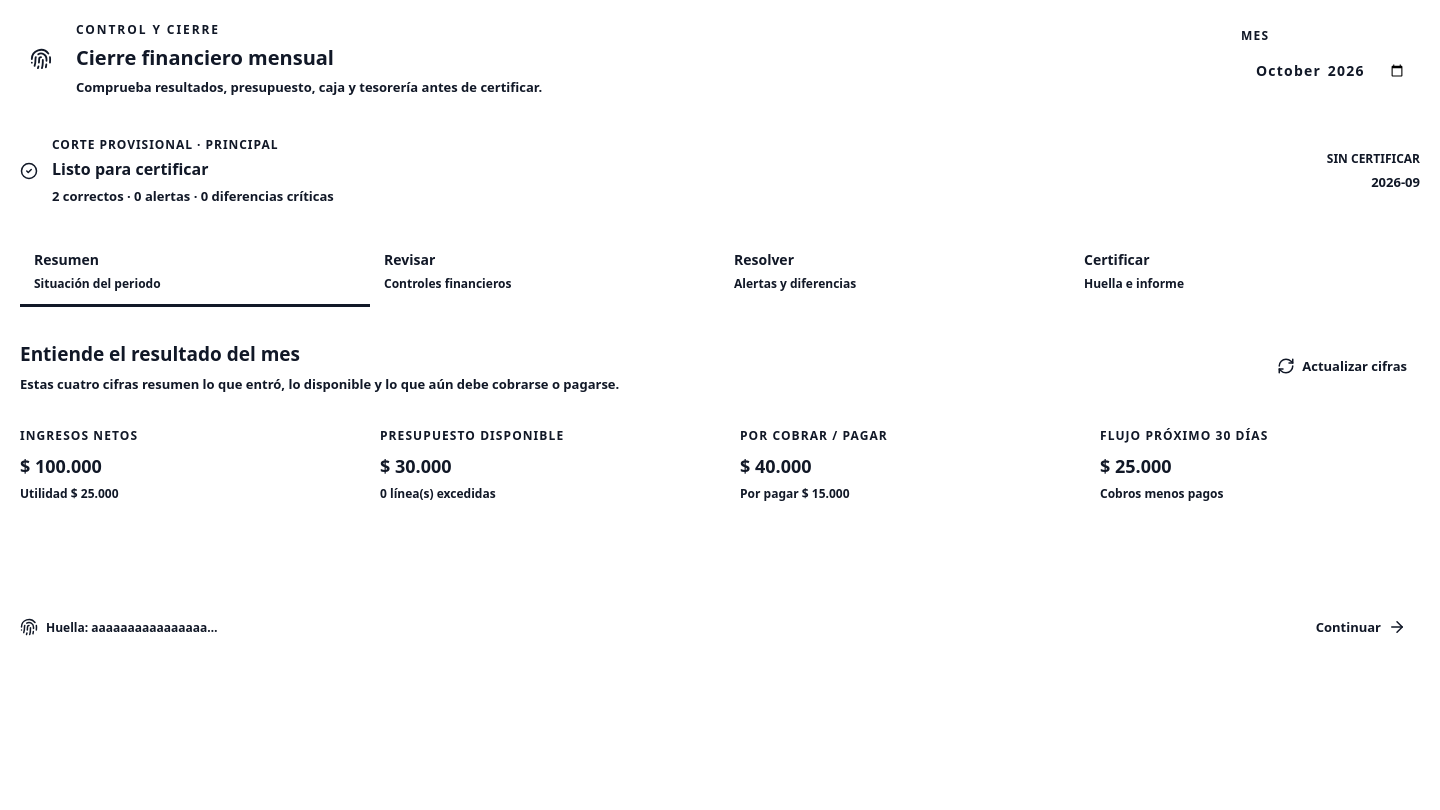
Cierre financiero mensual › cierra la certificación con Escape y devuelve el foco al botón de origen
This screenshot has width=1440, height=810.
Expected: the text "Listo para certificar" is shown, [52,158,208,180]
Click the button with aria-label "Certificar: Huella e informe": [1117, 259] box [1070,238,1420,307]
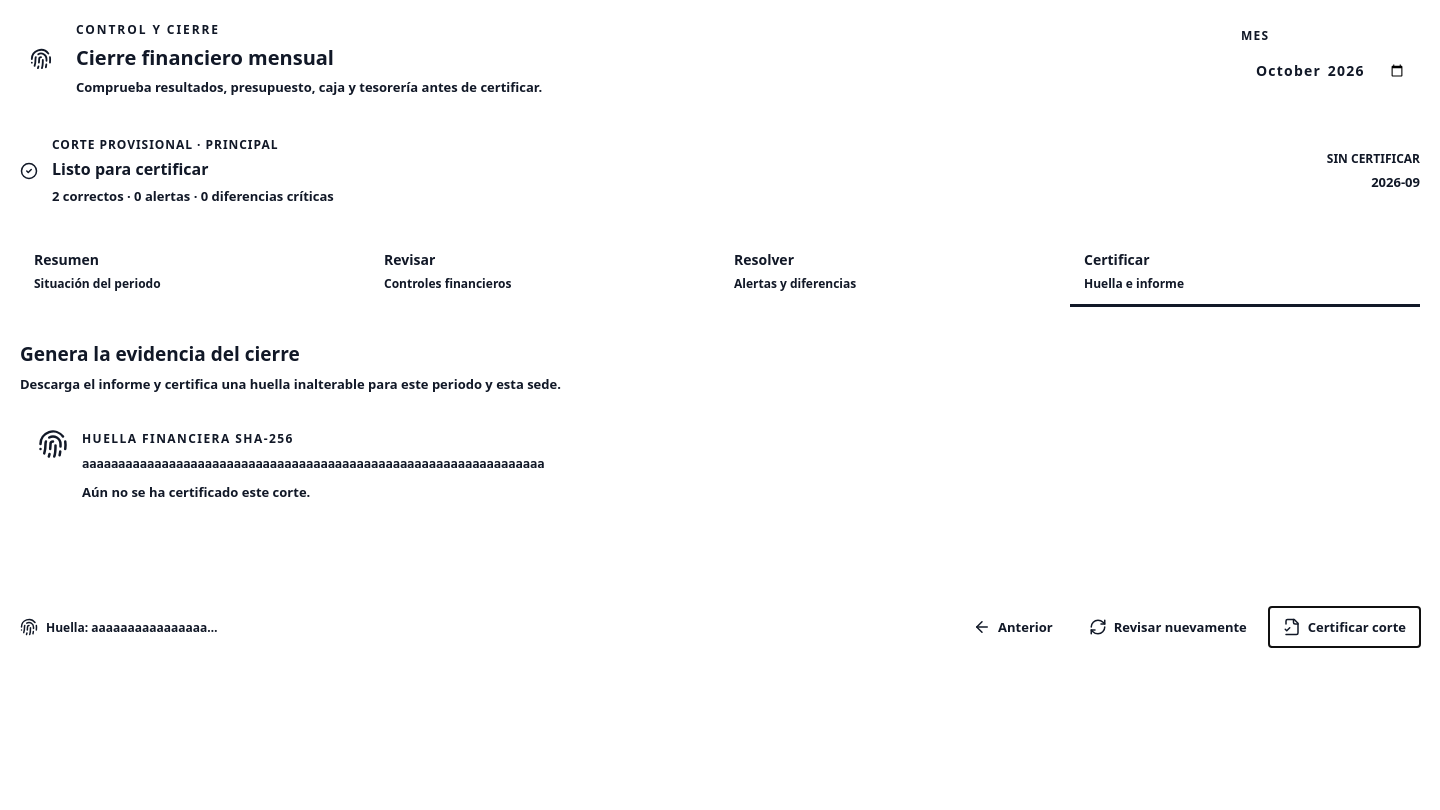
Click the button "Certificar corte": [1344, 627] box [1269,607,1420,647]
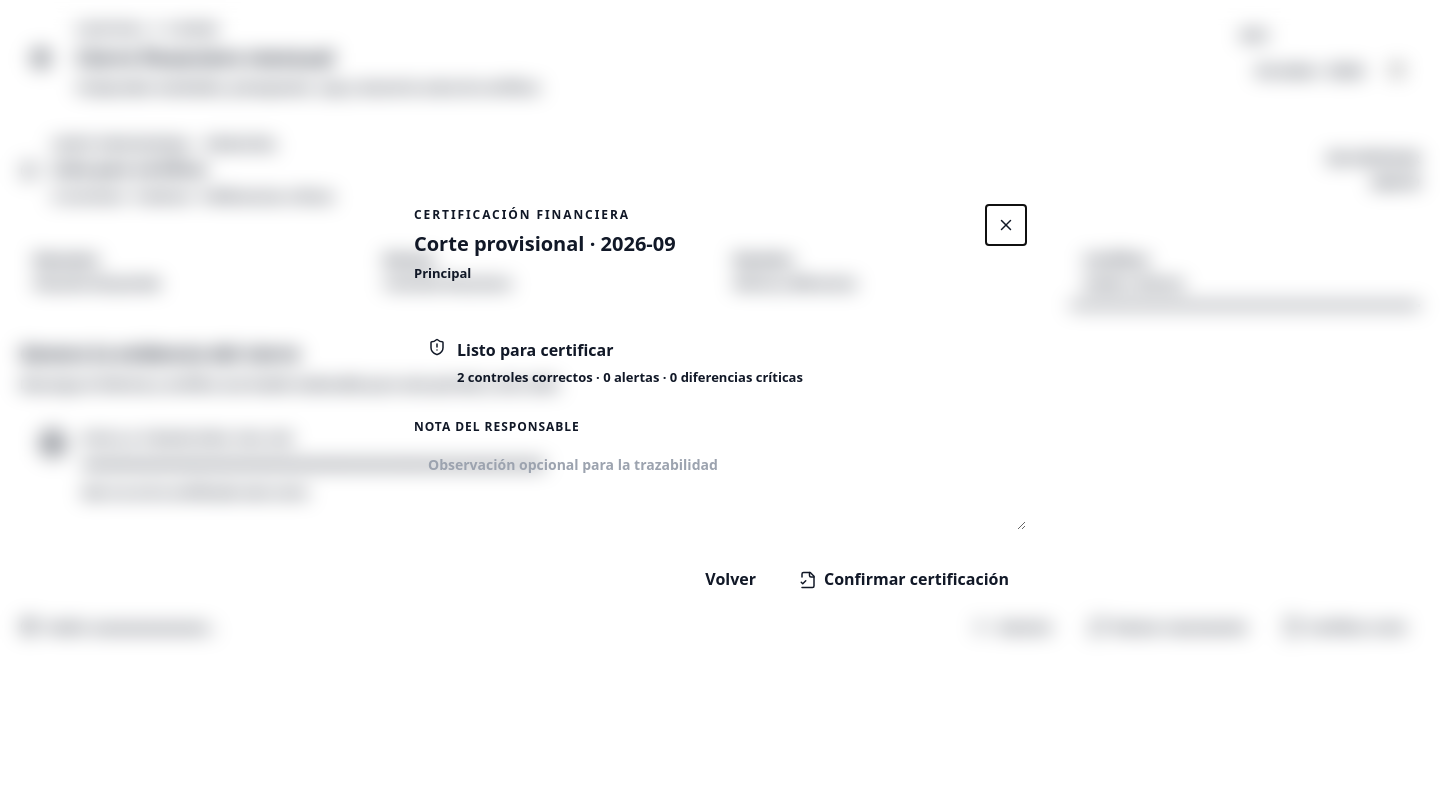
Press Escape
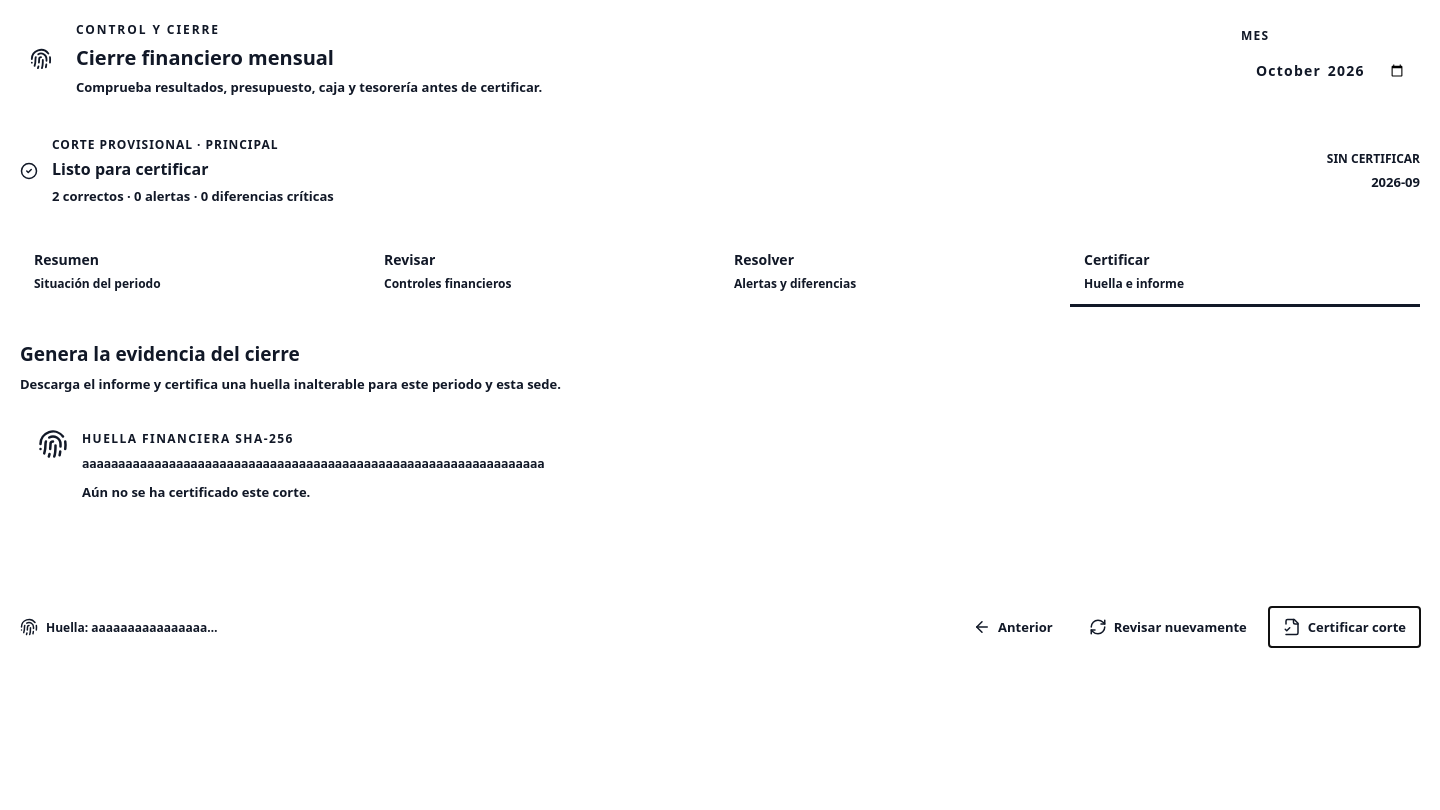
Expected: the dialog is gone
